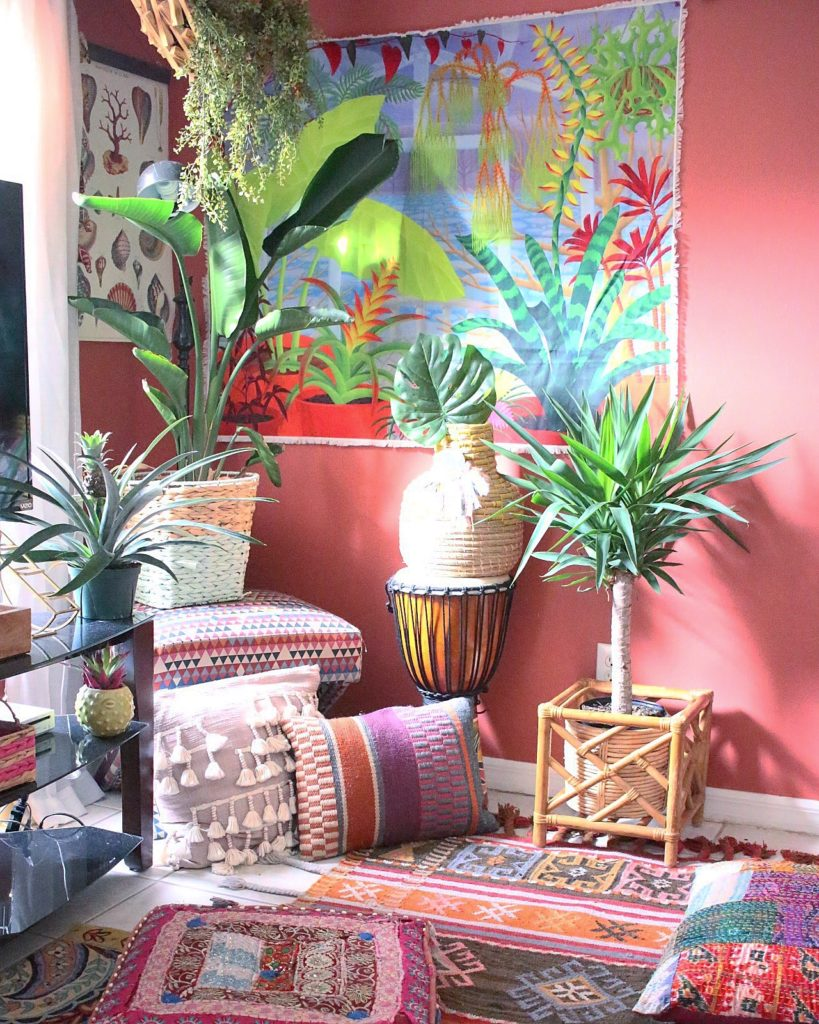hijau: (553, 405, 691, 591), (395, 338, 489, 431)
putih: (398, 463, 523, 576)
